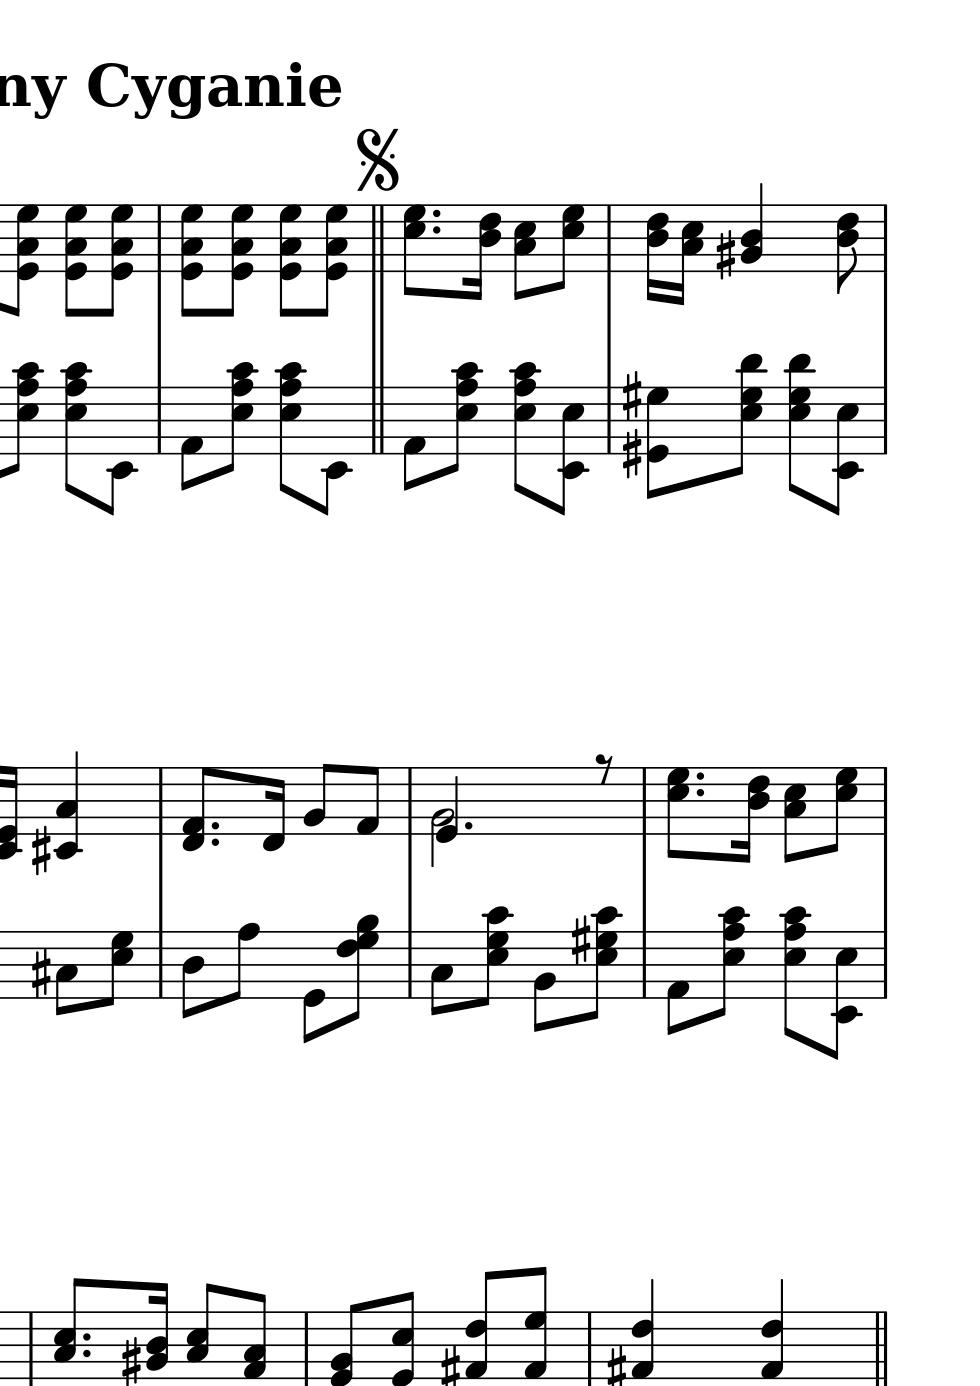16_-1: (260, 764, 287, 856)
16_2_4: (144, 1279, 172, 1380)
16_3_5: (673, 204, 705, 308)
16_4_6: (462, 201, 504, 302), (731, 766, 771, 864), (644, 204, 670, 304)
4_-2_3: (52, 752, 84, 860)
4_1_6: (630, 1279, 657, 1381), (759, 1278, 785, 1380)
4_2_4: (739, 182, 764, 273)
4_th: (1, 761, 23, 863)
8_-1_1: (181, 766, 213, 853)
8_-2: (318, 383, 353, 516), (103, 382, 138, 514)
8_-2_5: (821, 930, 863, 1060), (552, 385, 590, 517), (826, 386, 863, 517)
8_0: (299, 929, 325, 1043)
8_0_2: (330, 1298, 369, 1386)
8_0_5: (391, 1289, 416, 1386)
8_0_7: (645, 385, 671, 501)
8_1: (663, 929, 690, 1037), (400, 385, 426, 493), (177, 385, 204, 492), (353, 765, 380, 838)
8_1_3: (240, 1289, 268, 1381)
8_1_6: (463, 1268, 502, 1381)
8_1_7: (522, 1267, 552, 1381)
8_2: (530, 929, 556, 1034), (302, 762, 334, 835)
8_3: (52, 930, 78, 1018), (427, 929, 453, 1017)
8_3_5: (183, 1281, 222, 1381), (53, 1276, 84, 1380), (782, 765, 808, 867), (513, 203, 540, 302)
8_4: (179, 929, 205, 1021)
8_4_6: (835, 204, 861, 296)
8_4th: (312, 203, 350, 323), (179, 201, 206, 320)
8_5_7: (550, 203, 587, 293), (827, 766, 859, 854), (664, 767, 693, 860), (401, 201, 428, 298), (100, 930, 134, 1007)
8_8: (225, 922, 259, 1004)
8_th: (725, 349, 769, 487), (782, 350, 816, 507), (273, 359, 308, 505), (58, 361, 93, 503), (778, 903, 812, 1050), (218, 359, 259, 483), (710, 903, 751, 1023), (508, 359, 541, 509), (442, 361, 483, 479), (4, 361, 43, 477), (474, 903, 514, 1008), (100, 201, 135, 320), (221, 204, 255, 319), (8, 200, 40, 320), (62, 201, 89, 320), (277, 203, 304, 320)
Double_barline: (365, 387, 390, 454), (367, 203, 389, 271)
Final_barline: (870, 1311, 892, 1378)
Rests8: (593, 751, 614, 784)
Segno: (352, 124, 401, 193)
Sharp: (713, 229, 737, 283), (568, 914, 592, 967), (119, 1336, 143, 1386), (619, 370, 642, 422), (619, 429, 642, 481), (29, 947, 51, 999), (30, 823, 51, 876), (603, 1343, 628, 1386), (438, 1344, 462, 1386)
Single_barline: (297, 1311, 315, 1381), (580, 1312, 598, 1382), (152, 768, 170, 835), (876, 204, 893, 271), (600, 205, 617, 273), (152, 931, 169, 998), (401, 931, 418, 998), (635, 932, 652, 998), (877, 766, 893, 835), (151, 204, 167, 271), (22, 1312, 38, 1380), (876, 387, 892, 454), (402, 768, 418, 835), (636, 769, 652, 835), (151, 388, 167, 453), (601, 386, 616, 454), (877, 932, 892, 999)
dot: (80, 1335, 93, 1356), (461, 818, 475, 834), (78, 1347, 93, 1361), (693, 786, 706, 800), (80, 1330, 93, 1344), (428, 224, 443, 236), (428, 207, 442, 220), (694, 769, 706, 783), (208, 836, 222, 848), (209, 819, 222, 831)
